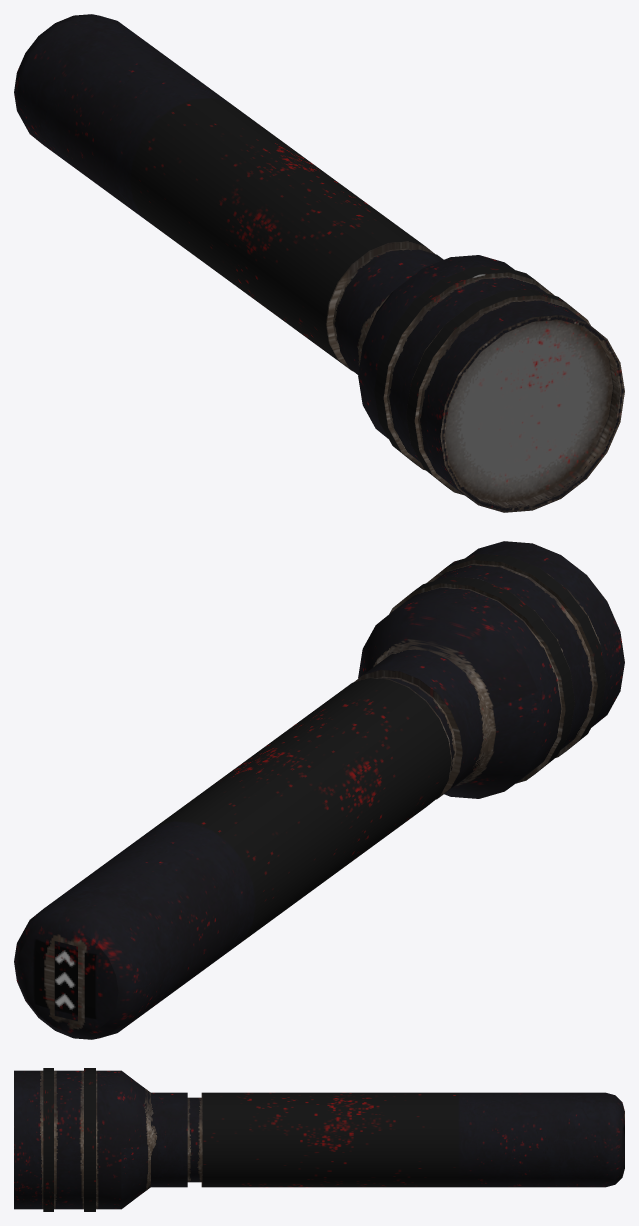
Rendered from flashlight.fbx.
3 renders of one model, top to bottom at view 1: azimuth 30°, elevation 25°; view 2: azimuth 150°, elevation 25°; view 3: azimuth 270°, elevation 25°, orthographic. The views are drawn at different scales.
Parts seen in each view (by area): view 1: polySurface21; view 2: polySurface21, polySurface22; view 3: polySurface21.
Part boxes in pixels (x1,y1,x2,y2): polySurface21: [14, 14, 624, 512]; polySurface21: [14, 541, 624, 1039]; polySurface22: [54, 941, 77, 1021]; polySurface21: [14, 1068, 624, 1211].
Bounding box in the file's own units: 3.05 × 3.05 × 12.85.
